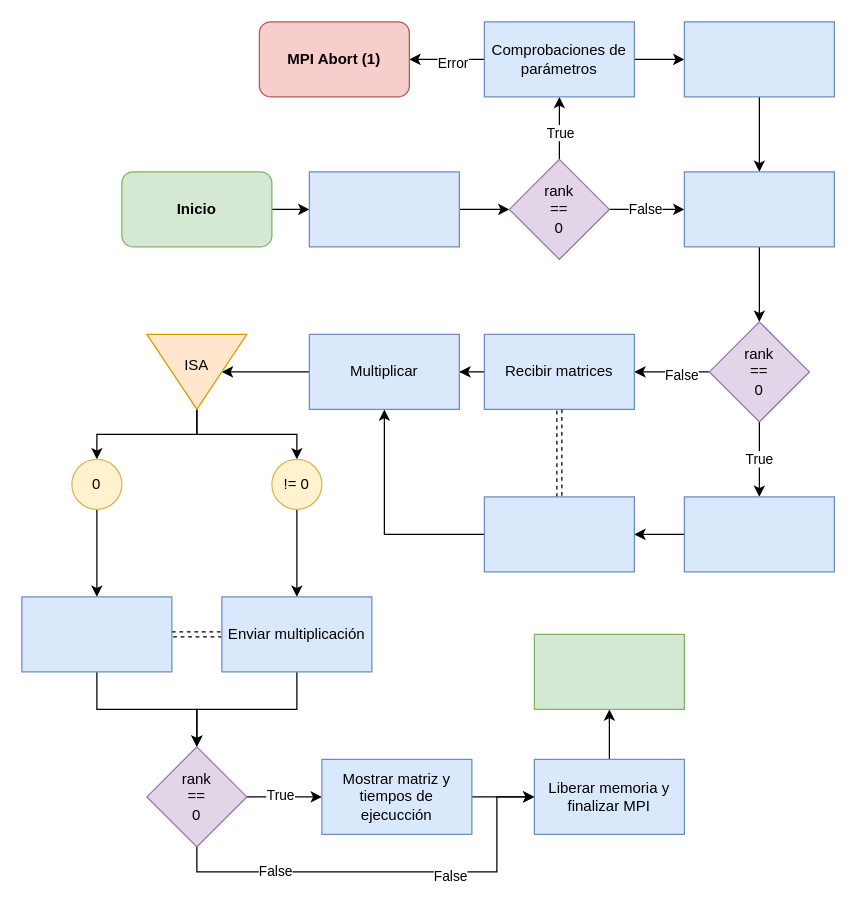
The diagram is 856 pixels wide and 906 high, and some of its shapes have lost their labels. The shapes that lost their labels are listed below. From the top down, each one's box as (x1, y1, x2, y2) in pixels, then its label:
(683, 21, 834, 97): Tamaño matriz
(308, 171, 459, 247): Inicializar MPI
(683, 171, 834, 247): Reservar memoria para todo
(483, 496, 634, 572): Enviar matrices
(683, 496, 834, 572): Rellenar matrices
(21, 596, 172, 672): Recibir multiplicación
(533, 633, 684, 709): Fin (0)
